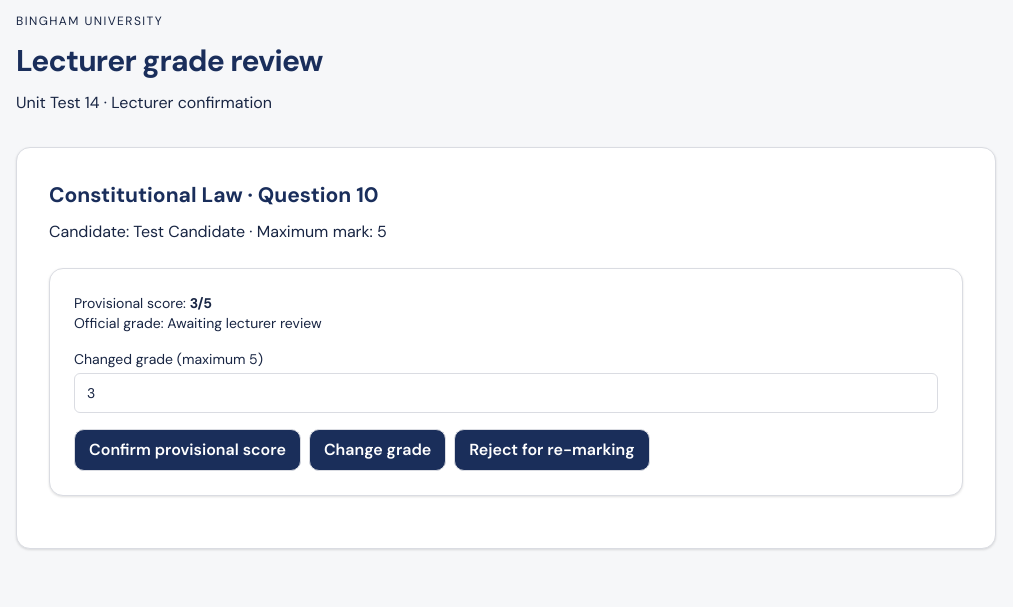
it: Unit Test 14 — H10: lecturer changes, rejects, and caps reviewed grades › leaves the official grade empty and returns a rejected result for re-marking
Step 1. Click the button "Reject for re-marking" → point(552, 450), box [454,428,650,470]
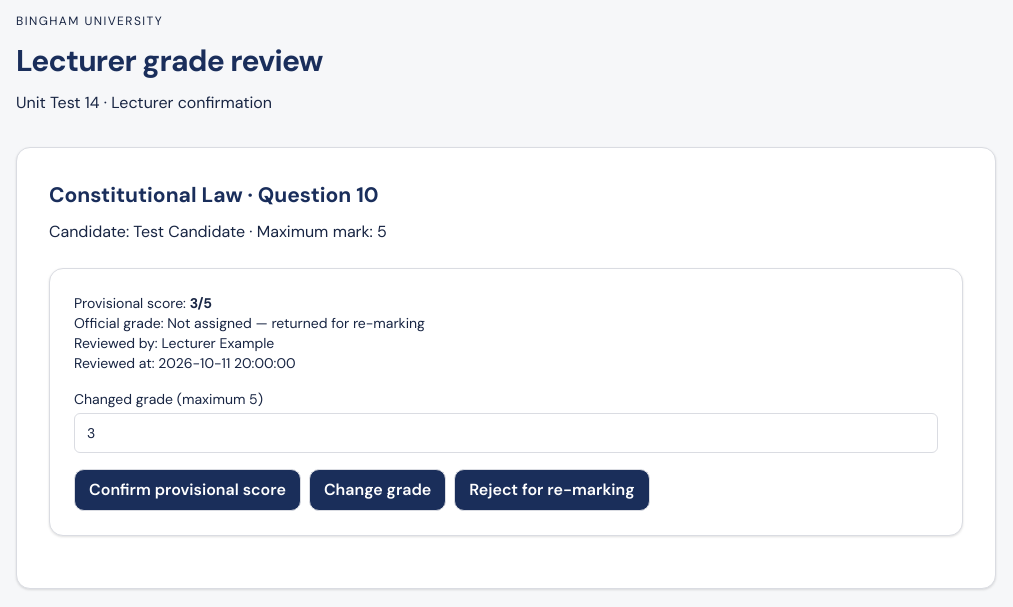
Expected: the text with test id "provisional-score" reads "3/5", [190,294,212,312]
Result: the text with test id "official-grade" reads "Official grade: Not assigned — returned for re-marking" at [74,314,425,332]
